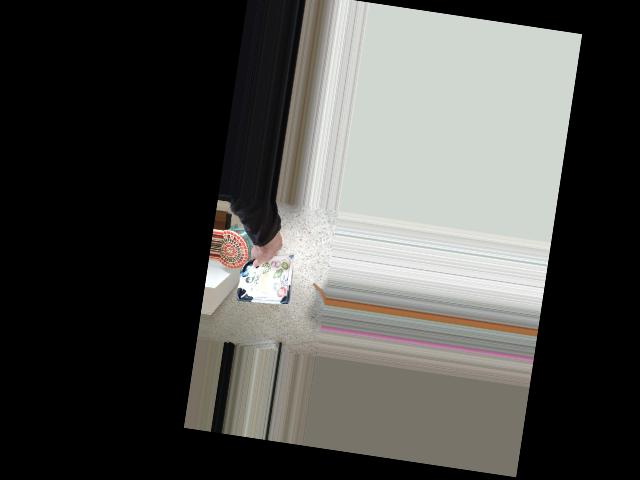cheese: (229, 230, 305, 306)
